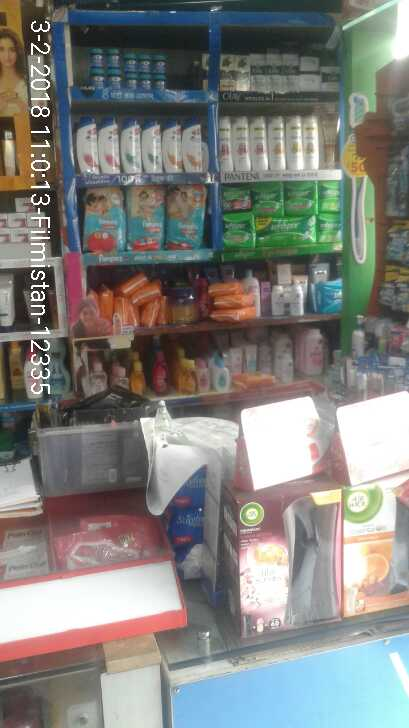vicks: (90, 45, 166, 90)
